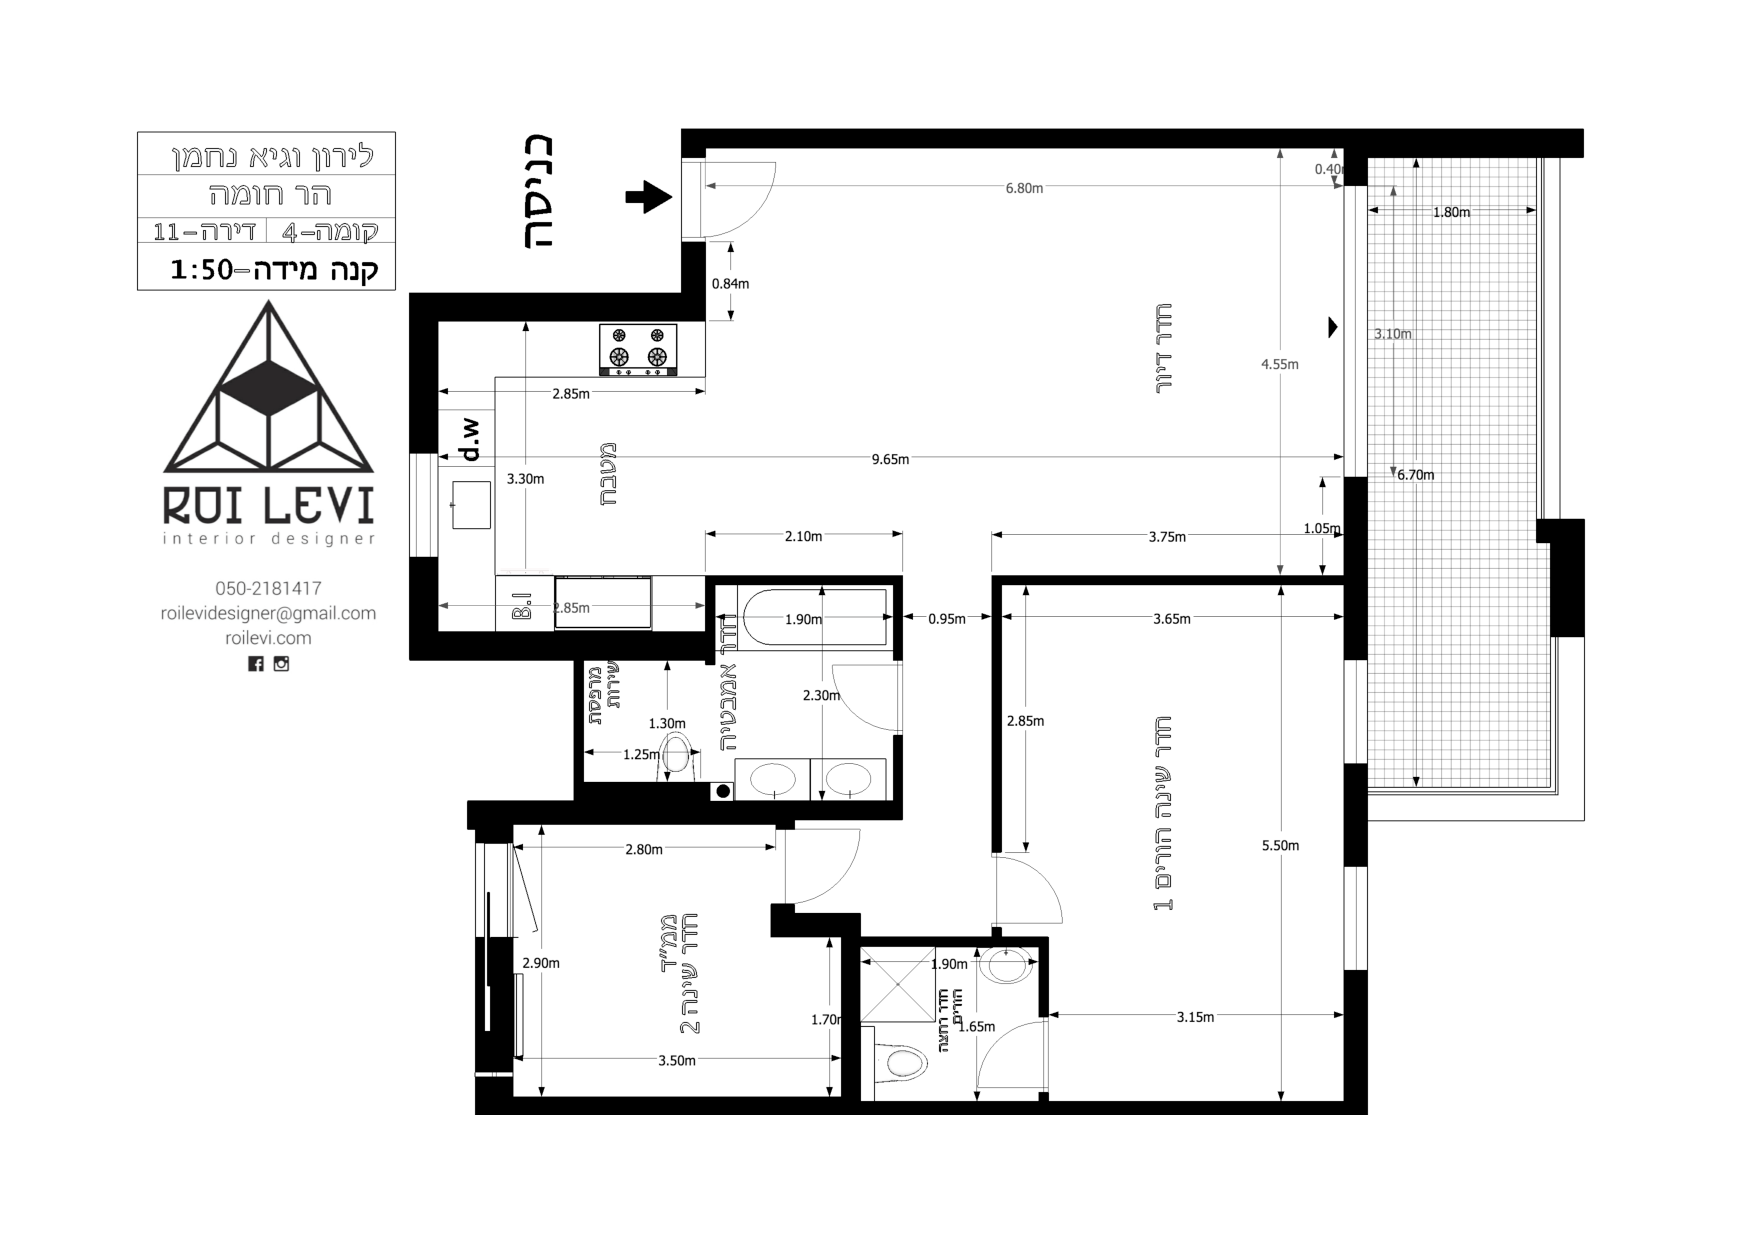door: (721, 152, 786, 246), (803, 827, 874, 902), (827, 654, 884, 735), (1009, 855, 1070, 929), (973, 1027, 1033, 1095)
wall: (484, 1095, 1359, 1113), (684, 130, 1567, 146), (396, 564, 470, 688), (478, 803, 883, 817), (476, 635, 702, 659), (417, 295, 699, 314), (577, 786, 706, 815), (1345, 480, 1365, 652), (1553, 522, 1584, 633), (412, 293, 433, 446), (994, 574, 1341, 582), (844, 921, 859, 1091), (1347, 976, 1368, 1087), (994, 576, 1001, 817), (1347, 766, 1363, 859)
window: (404, 451, 446, 560), (1341, 862, 1374, 973), (1341, 656, 1372, 768)
